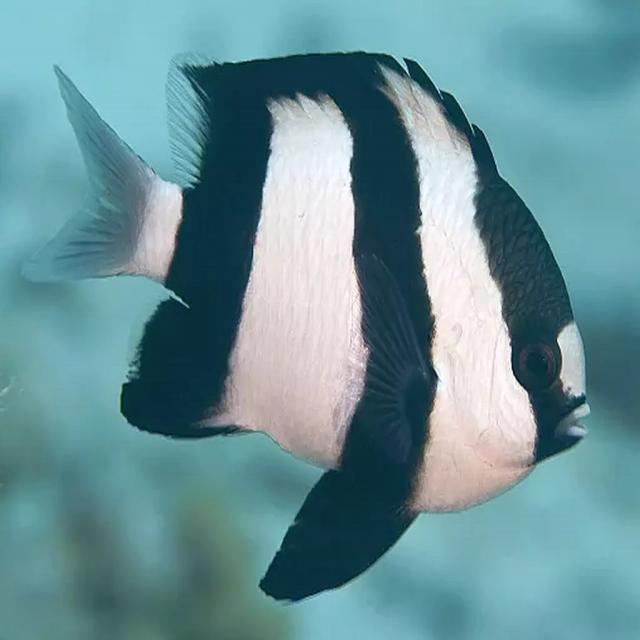Three_striped DasmselFish: (43, 53, 597, 607)
